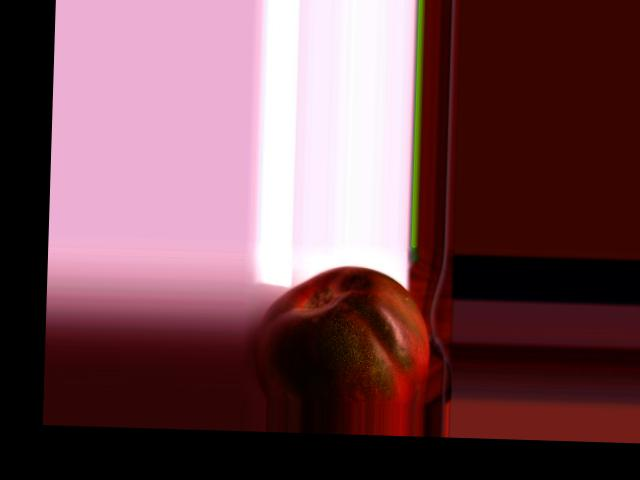tomato: (254, 264, 432, 405)
